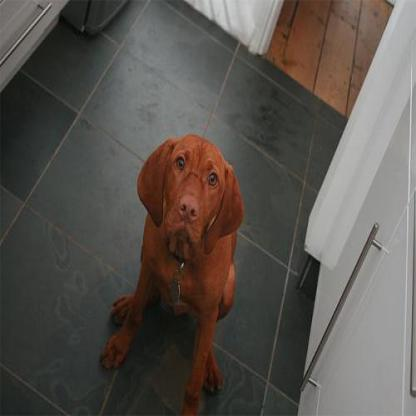vizsla: (98, 134, 244, 414)
